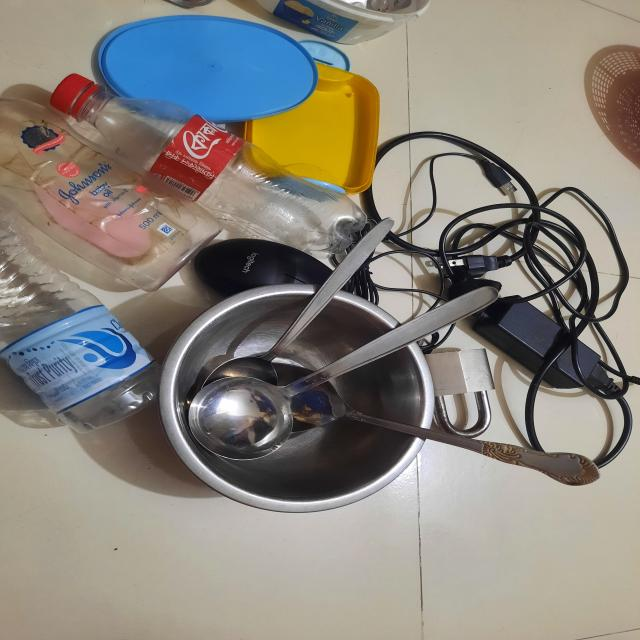Cable: (388, 112, 640, 481)
Metal: (190, 228, 465, 520)
Plastics: (0, 11, 186, 440), (194, 10, 389, 213)
